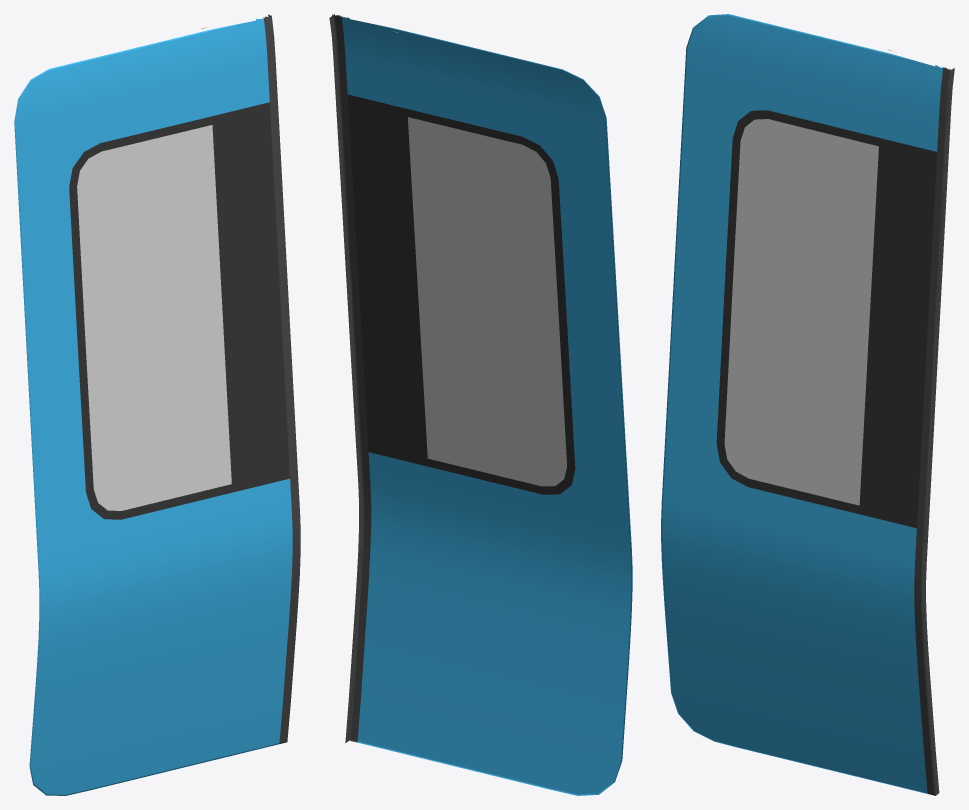
The model's file is door.fbx.
3 views of the same model, side by side, from view 1: azimuth 30°, elevation 25°; view 2: azimuth 150°, elevation 25°; view 3: azimuth 330°, elevation 25° (orthographic). The views are drawn at different scales.
Visible parts, largest first — view 1: LeftDoor00; view 2: LeftDoor00; view 3: LeftDoor00.
Boxes of the visible parts, x1=… form: LeftDoor00: x1=14, y1=14, x2=300, y2=795; LeftDoor00: x1=329, y1=14, x2=632, y2=795; LeftDoor00: x1=661, y1=14, x2=954, y2=795.
Size of the model in its own units: 61.18 by 160 by 13.25.
